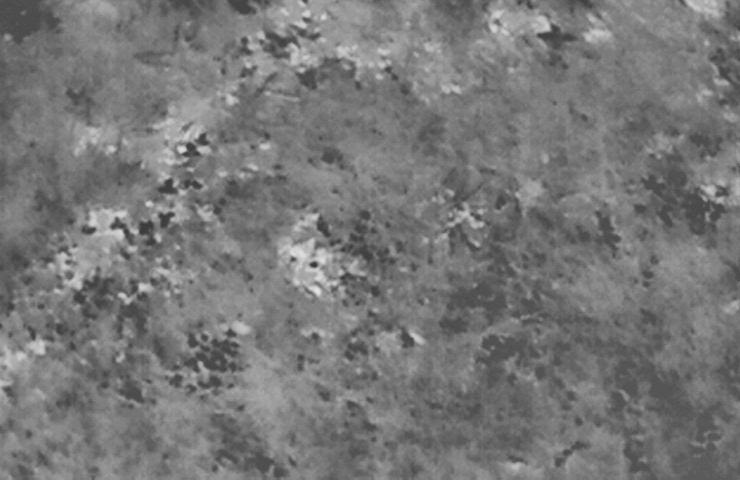landmines: (281, 237, 353, 293)
